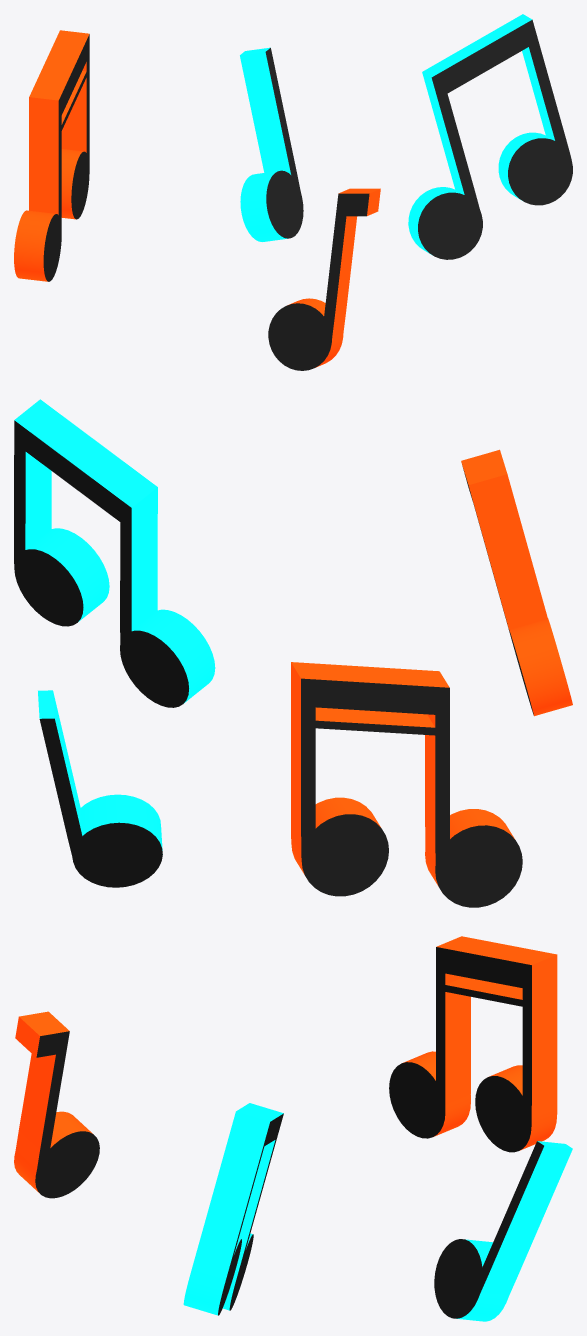
The model's file is notes.glb.
The picture shows the model from 3 angles, top to bottom: view 1: azimuth 30°, elevation 25°; view 2: azimuth 150°, elevation 25°; view 3: azimuth 270°, elevation 25°; orthographic projection. The views are drawn at different scales.
Parts seen in each view (by area): view 1: note4.001, Note 1.001, note3.001, note2.001; view 2: Note 1.001, note4.001, note2.001, note3.001; view 3: Note 1.001, note4.001, note3.001, note2.001.
Part boxes in pixels (bbox=[...]): note4.001: bbox=[408, 14, 572, 259]; Note 1.001: bbox=[14, 30, 89, 281]; note3.001: bbox=[240, 47, 303, 241]; note2.001: bbox=[268, 188, 380, 370]; Note 1.001: bbox=[291, 662, 522, 907]; note4.001: bbox=[14, 399, 215, 707]; note2.001: bbox=[461, 449, 572, 716]; note3.001: bbox=[38, 690, 162, 887]; Note 1.001: bbox=[389, 936, 557, 1152]; note4.001: bbox=[183, 1103, 283, 1315]; note3.001: bbox=[434, 1141, 572, 1321]; note2.001: bbox=[14, 1011, 99, 1198].
Bounding box in the file's own units: 13.01 × 6.81 × 11.51.
